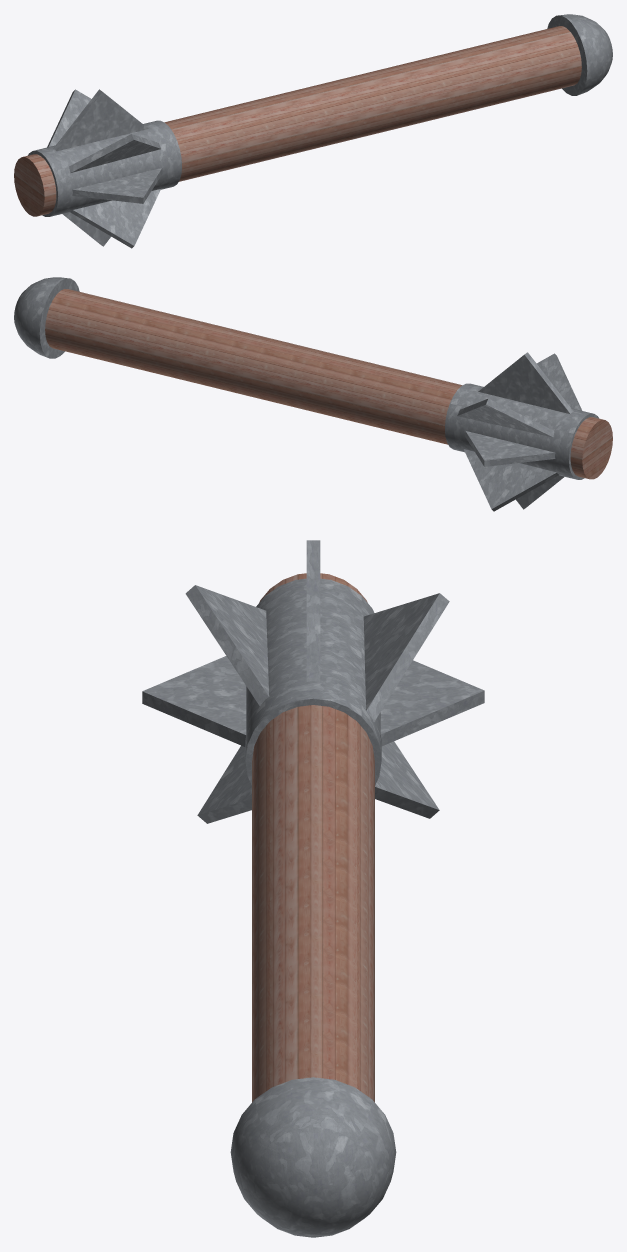
File: Mace.fbx
3 views of the same model, one above another, from view 1: azimuth 30°, elevation 25°; view 2: azimuth 150°, elevation 25°; view 3: azimuth 270°, elevation 25° (orthographic). The views are drawn at different scales.
Visible parts, largest first — view 1: cylinder, wedge (×6), cylinderHollow, sphere_half; view 2: cylinder, wedge (×6), cylinderHollow, sphere_half; view 3: cylinder, wedge (×7), sphere_half, cylinderHollow.
Boxes of the visible parts, x1,y1,x2,y2 form: cylinder: [14, 26, 581, 216]; wedge (×6): [47, 89, 162, 248]; cylinderHollow: [28, 120, 181, 216]; sphere_half: [547, 14, 612, 95]; cylinder: [45, 289, 612, 479]; wedge (×6): [457, 352, 582, 511]; cylinderHollow: [445, 383, 598, 479]; sphere_half: [14, 277, 79, 358]; cylinder: [252, 573, 374, 1102]; wedge (×7): [142, 540, 484, 823]; sphere_half: [230, 1077, 396, 1237]; cylinderHollow: [245, 578, 381, 785].
Size of the model in its own units: 98 by 25.13 by 25.13.
2 materials, 2 textured.
